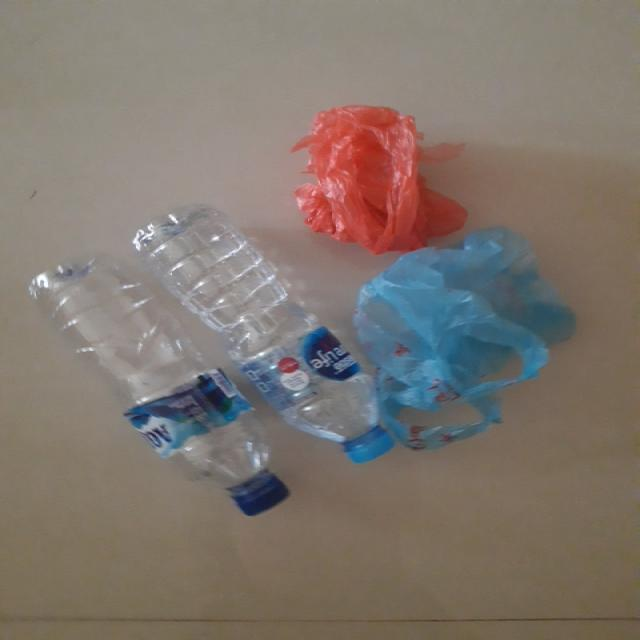Single-layer Plastic: (354, 228, 575, 449), (292, 105, 466, 254)
